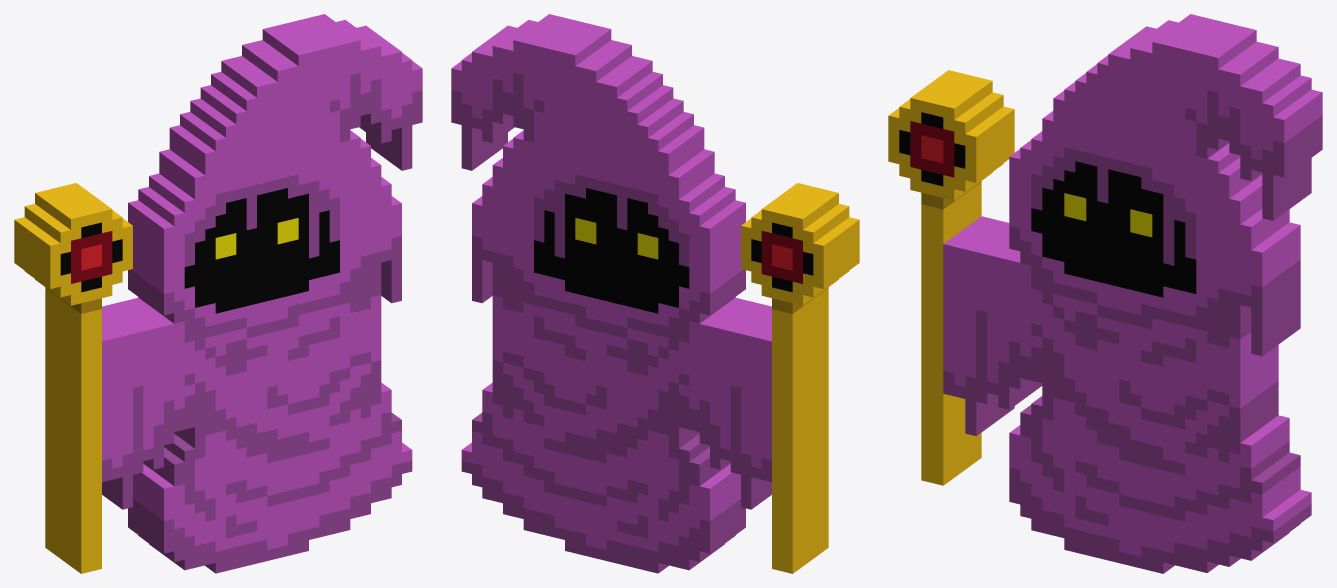
File: player.obj
The picture shows the model from 3 angles, left to right: view 1: azimuth 30°, elevation 25°; view 2: azimuth 150°, elevation 25°; view 3: azimuth 330°, elevation 25°; orthographic projection. The views are drawn at different scales.
Bounding box in the file's own units: 72 × 92 × 12.
